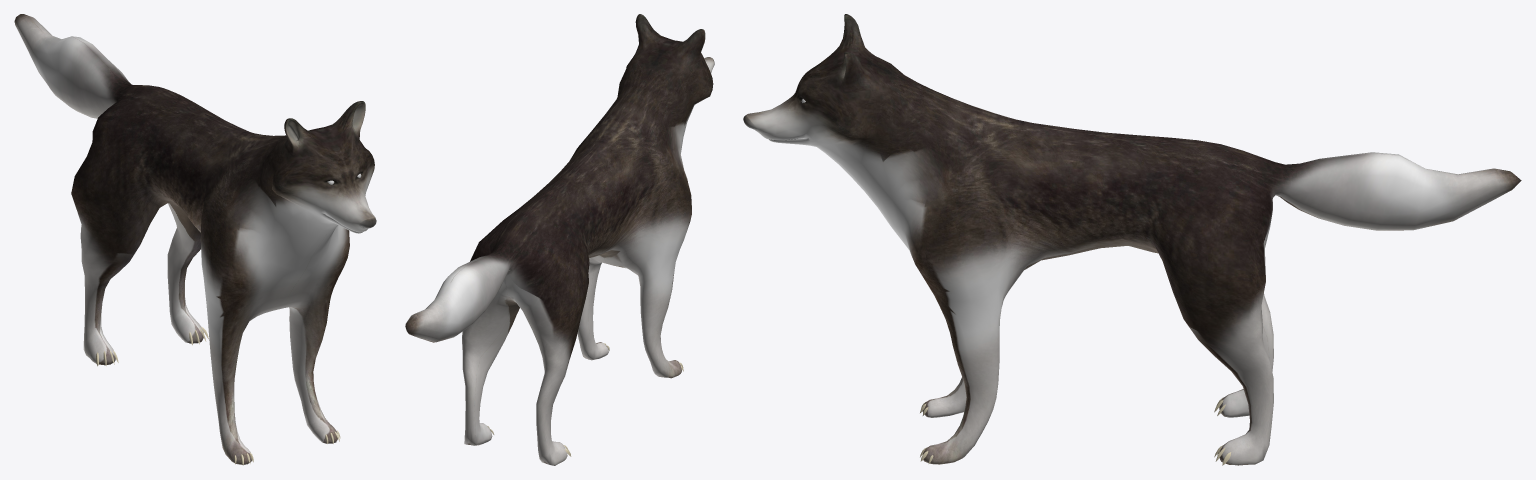
Rendered from wolf pup test.obj.
The picture shows the model from 3 angles, left to right: view 1: azimuth 30°, elevation 25°; view 2: azimuth 150°, elevation 25°; view 3: azimuth 270°, elevation 25°; orthographic projection. The views are drawn at different scales.
Visible parts, largest first — view 1: Wolf_obj_body_Mesh.003, Wolf_obj_body.002_Mesh.001; view 2: Wolf_obj_body_Mesh.003; view 3: Wolf_obj_body_Mesh.003.
Part boxes in pixels (<box>): Wolf_obj_body_Mesh.003: <box>14,14,376,464</box>; Wolf_obj_body.002_Mesh.001: <box>96,327,340,465</box>; Wolf_obj_body_Mesh.003: <box>405,14,714,465</box>; Wolf_obj_body_Mesh.003: <box>743,14,1521,465</box>.
Size of the model in its own units: 0.2282 by 0.592 by 1.03.
